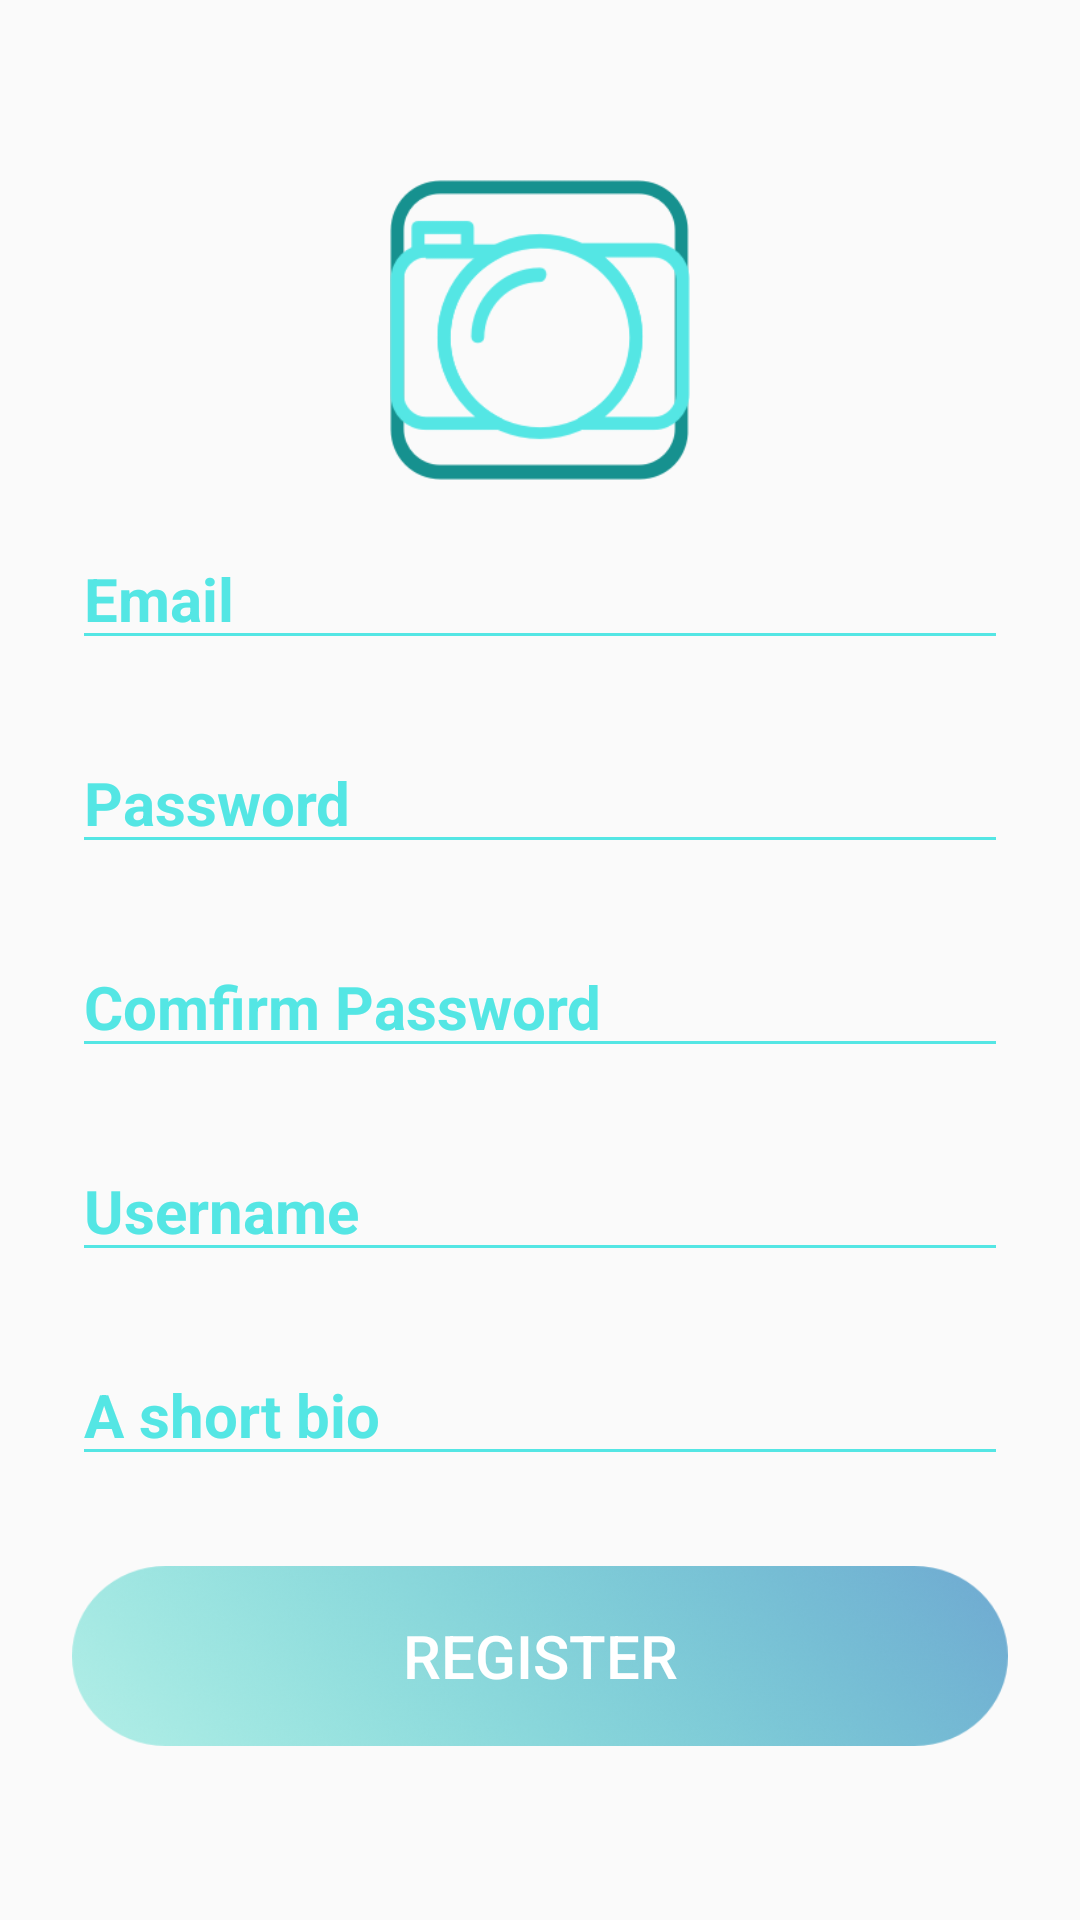

Screen size 1080x1920. Icon name, then its center in pixels as (x,y):
camera: (540,330)
